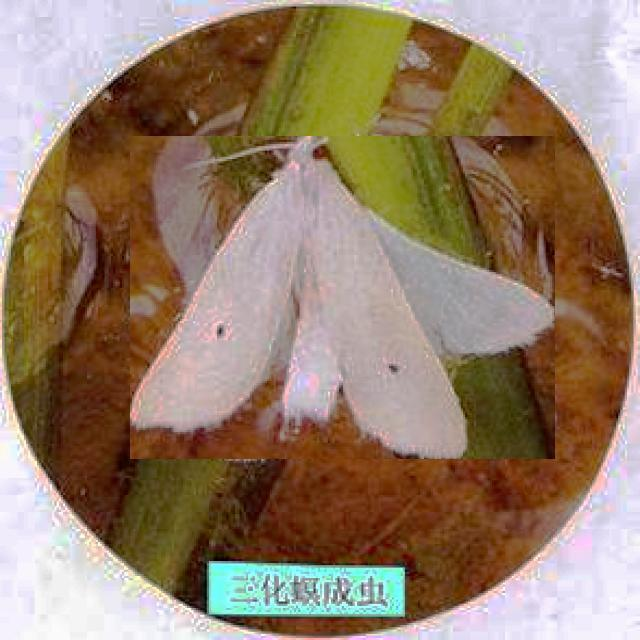stem-borer: (130, 137, 555, 459)
